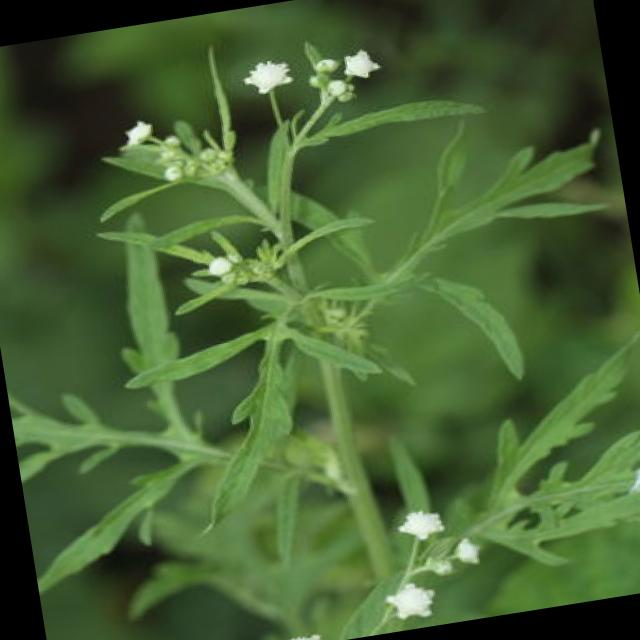Poisonous-Parthenium: (107, 15, 557, 640)
